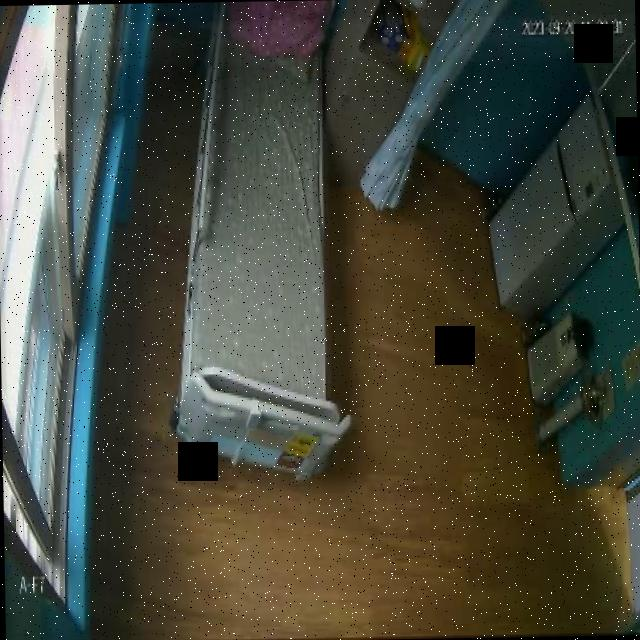bed: (172, 0, 338, 471)
